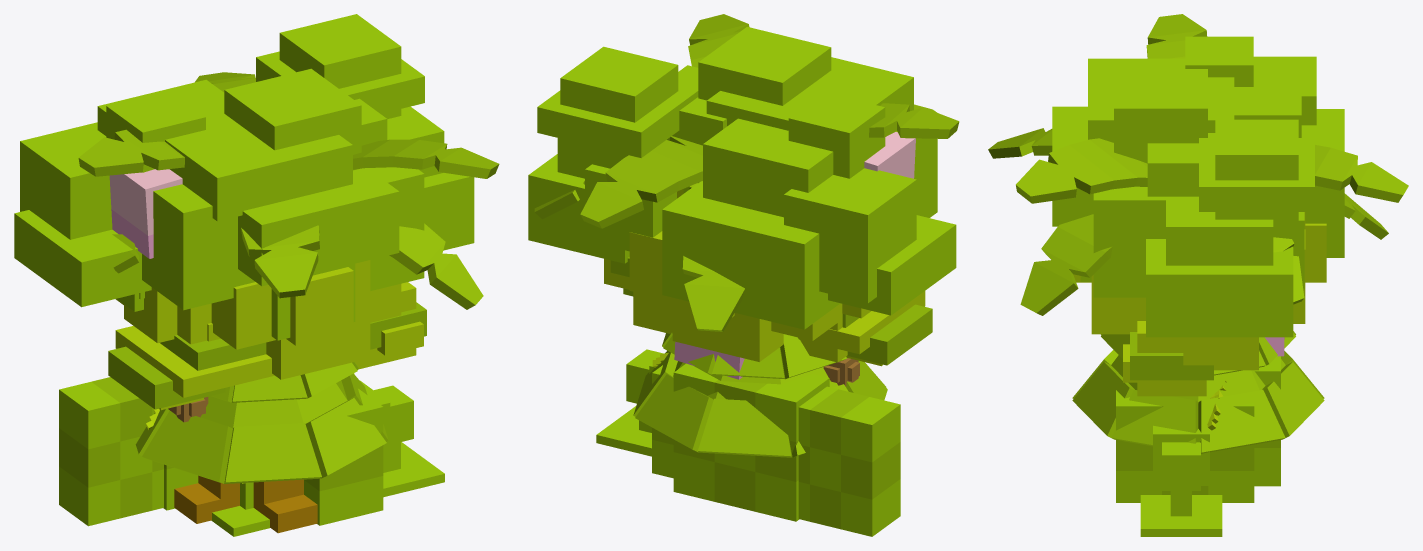
The model's file is tree2.fbx.
The picture shows the model from 3 angles, left to right: view 1: azimuth 30°, elevation 25°; view 2: azimuth 150°, elevation 25°; view 3: azimuth 270°, elevation 25°; orthographic projection. The views are drawn at different scales.
Visible parts, largest first — view 1: Cube_2, Cube054, Cube078_1, Cone012, Cylinder006, Cube106_2, Cube008; view 2: Cube_2, Cube054, Cylinder006, Cone012, Cube078_1, Cube106_2, Cube008; view 3: Cube_2, Cylinder006, Cube054, Cone012, Cube106_2, Cube078_1.
Part boxes in pixels (bbox=[...]): Cube_2: bbox=[14, 14, 474, 340]; Cube054: bbox=[59, 377, 444, 536]; Cube078_1: bbox=[115, 260, 401, 533]; Cone012: bbox=[135, 362, 388, 483]; Cylinder006: bbox=[78, 72, 499, 309]; Cube106_2: bbox=[108, 282, 426, 422]; Cube008: bbox=[109, 169, 182, 258]; Cube_2: bbox=[528, 27, 956, 329]; Cube054: bbox=[596, 349, 900, 536]; Cylinder006: bbox=[534, 14, 959, 331]; Cone012: bbox=[633, 333, 887, 457]; Cube078_1: bbox=[629, 189, 870, 362]; Cube106_2: bbox=[604, 257, 932, 386]; Cube008: bbox=[674, 132, 915, 379]; Cube_2: bbox=[1052, 36, 1344, 337]; Cylinder006: bbox=[988, 14, 1408, 315]; Cube054: bbox=[1116, 356, 1280, 536]; Cone012: bbox=[1072, 331, 1324, 453]; Cube106_2: bbox=[1123, 321, 1221, 396]; Cube078_1: bbox=[1073, 212, 1326, 370].
Size of the model in its own units: 6.74 by 7.01 by 6.97.
